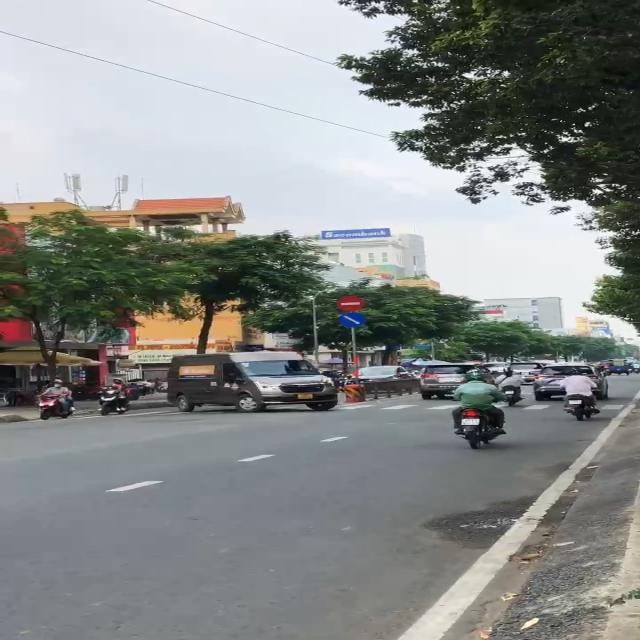Bien bao cam di nguoc chieu: (334, 294, 368, 312)
Bien bao huong phai di vong chuong ngai vat: (334, 312, 370, 328)
